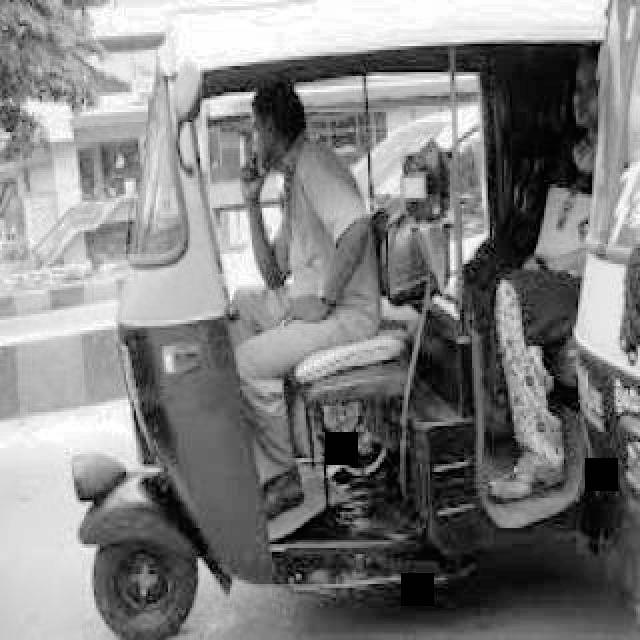Auto-Rickshaw: (50, 8, 640, 640)
